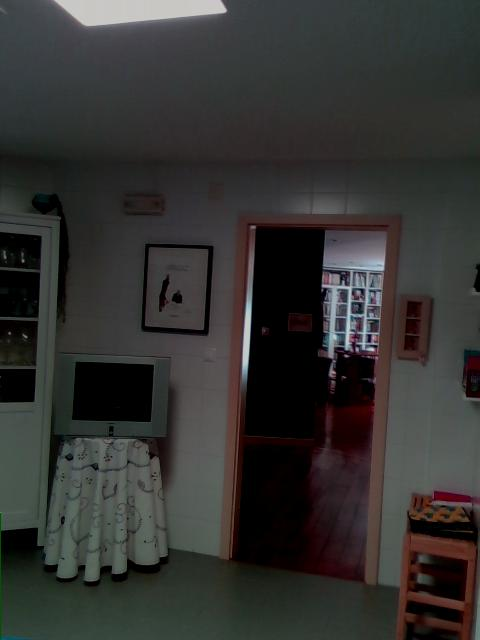open_door: (223, 213, 400, 585)
